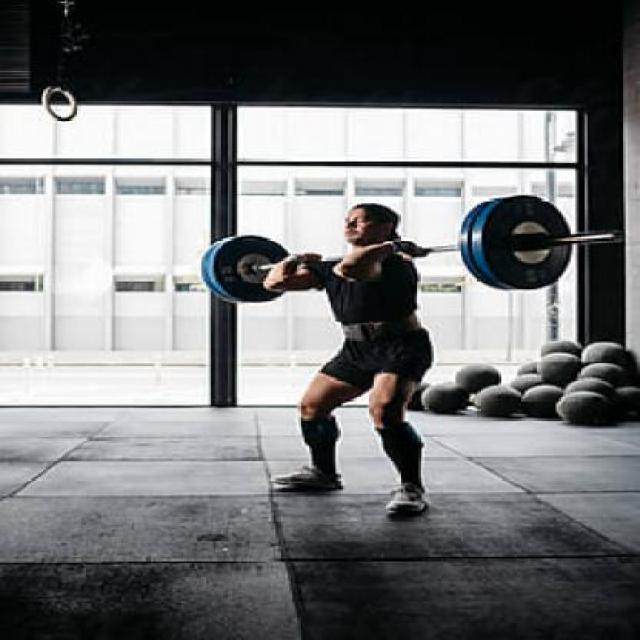Barbell: (602, 223, 627, 246)
